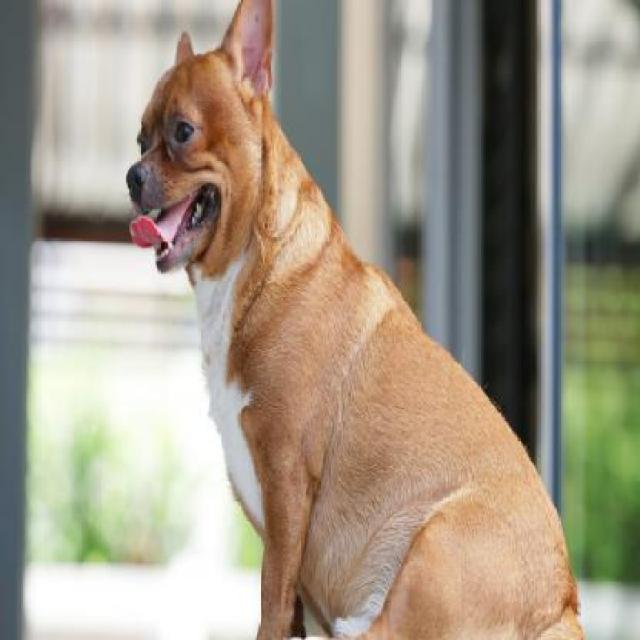Dog: (126, 0, 590, 638)
